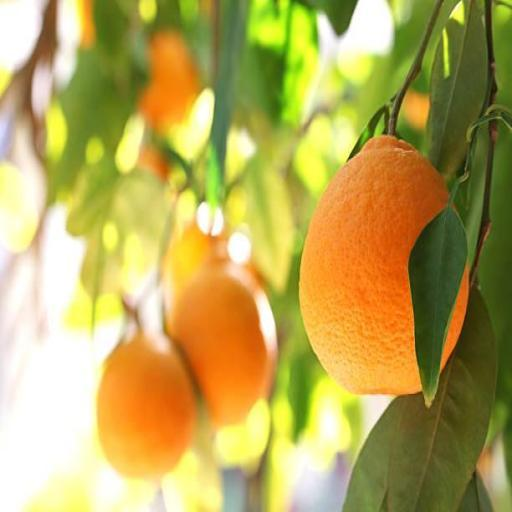orange: (300, 136, 448, 395)
